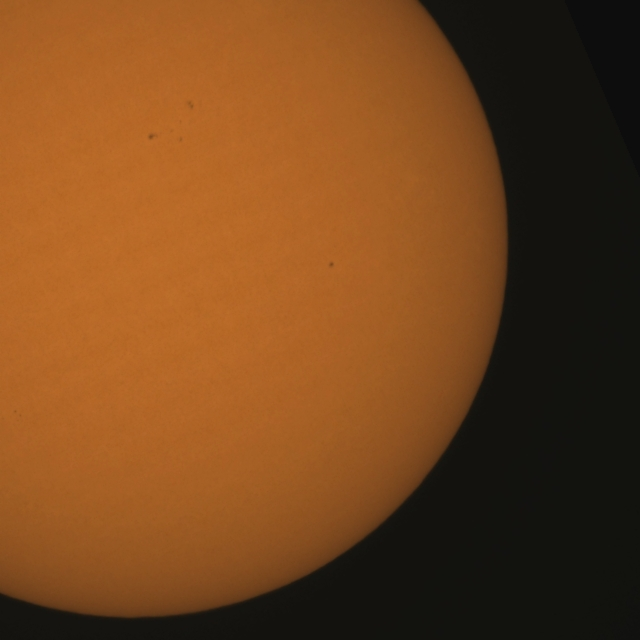sunspot: (146, 126, 182, 144), (147, 131, 159, 142), (13, 409, 23, 421), (187, 99, 195, 110), (328, 260, 335, 269), (177, 136, 184, 144)
